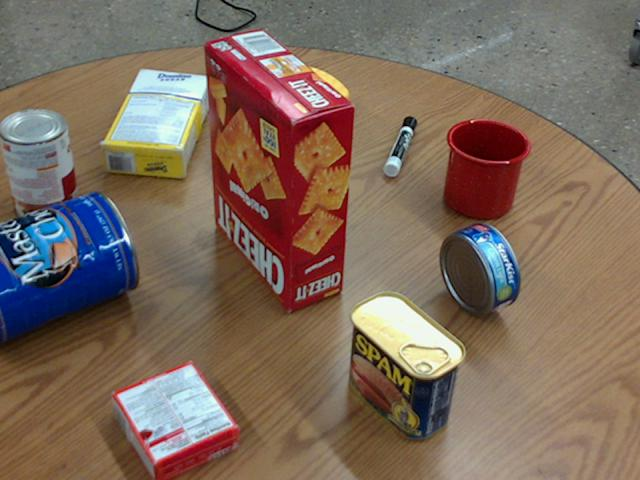cracker_box: (204, 29, 353, 310)
gelatin_box: (111, 360, 239, 479)
large_marker: (384, 116, 416, 175)
master_chef_can: (0, 189, 138, 343)
mug: (442, 118, 530, 218)
mustard_bottle: (218, 67, 348, 159)
potted_meat_can: (348, 291, 466, 439)
sugar_box: (101, 67, 211, 177)
tomato_soup_can: (0, 108, 78, 224)
tuna_fish_can: (440, 221, 519, 314)
